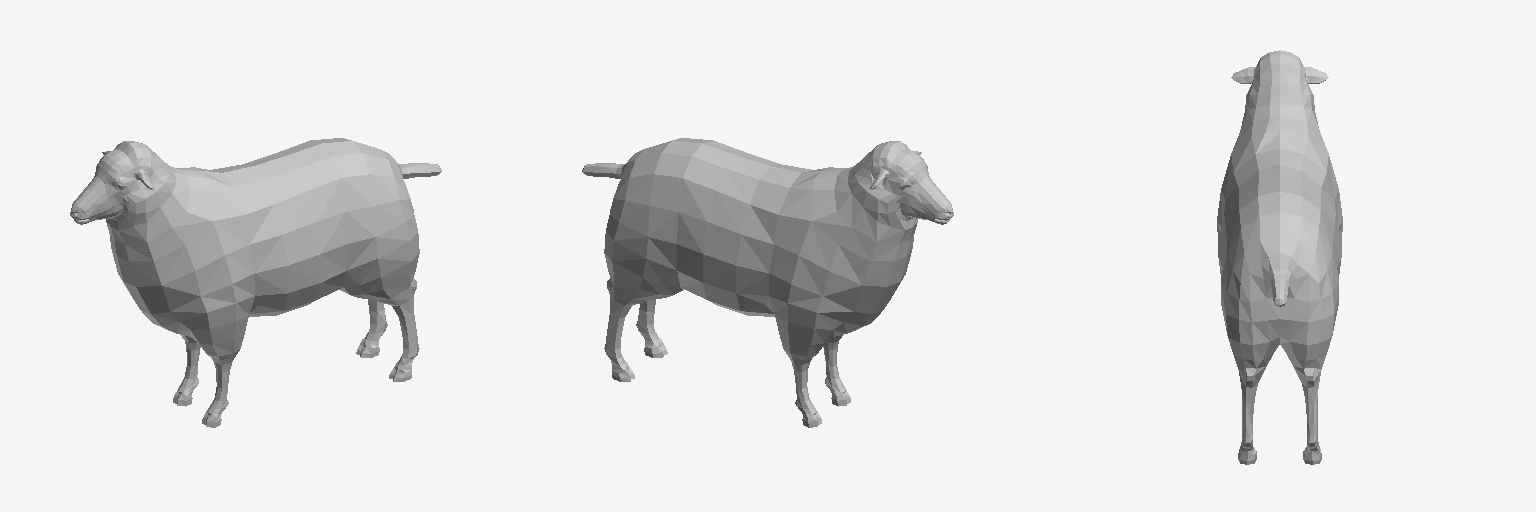
Rendered from sheep.obj.
3 views of the same model, side by side, from view 1: azimuth 30°, elevation 25°; view 2: azimuth 150°, elevation 25°; view 3: azimuth 270°, elevation 25° (orthographic).
Visible parts, largest first — view 1: BSJZYSOYYZT1ZPX6BJXRNW3KW; view 2: BSJZYSOYYZT1ZPX6BJXRNW3KW; view 3: BSJZYSOYYZT1ZPX6BJXRNW3KW.
Part boxes in pixels (x1,y1,x2,y2): BSJZYSOYYZT1ZPX6BJXRNW3KW: (70, 138, 441, 427); BSJZYSOYYZT1ZPX6BJXRNW3KW: (582, 138, 953, 427); BSJZYSOYYZT1ZPX6BJXRNW3KW: (1217, 50, 1342, 464).
Bounding box in the file's own units: 2.5 × 1.86 × 0.7401.